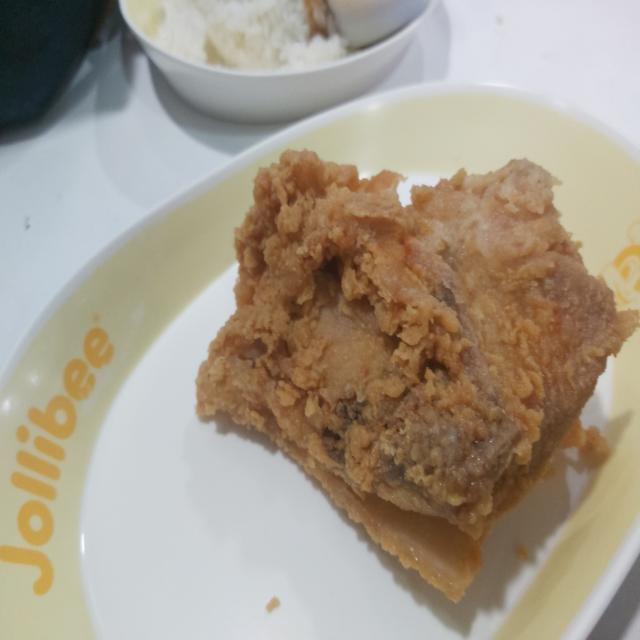Chicken -Fried Chicken-: (178, 135, 636, 640)
